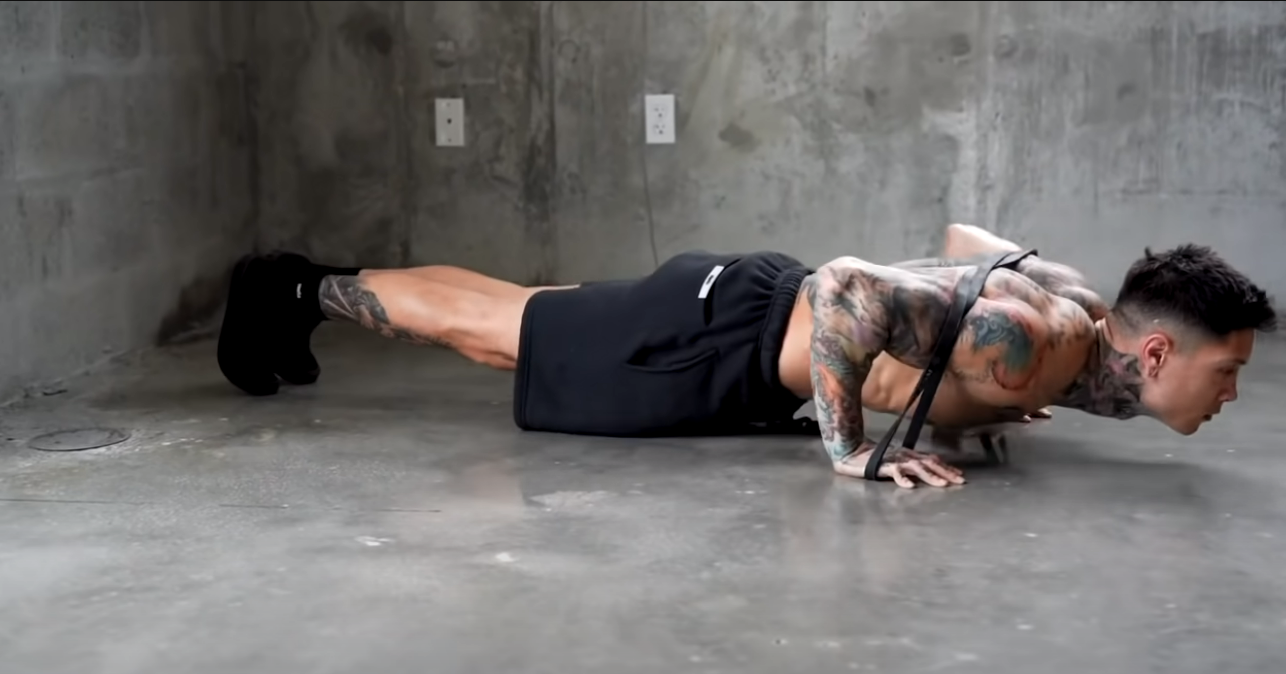down: (217, 217, 1276, 494)
